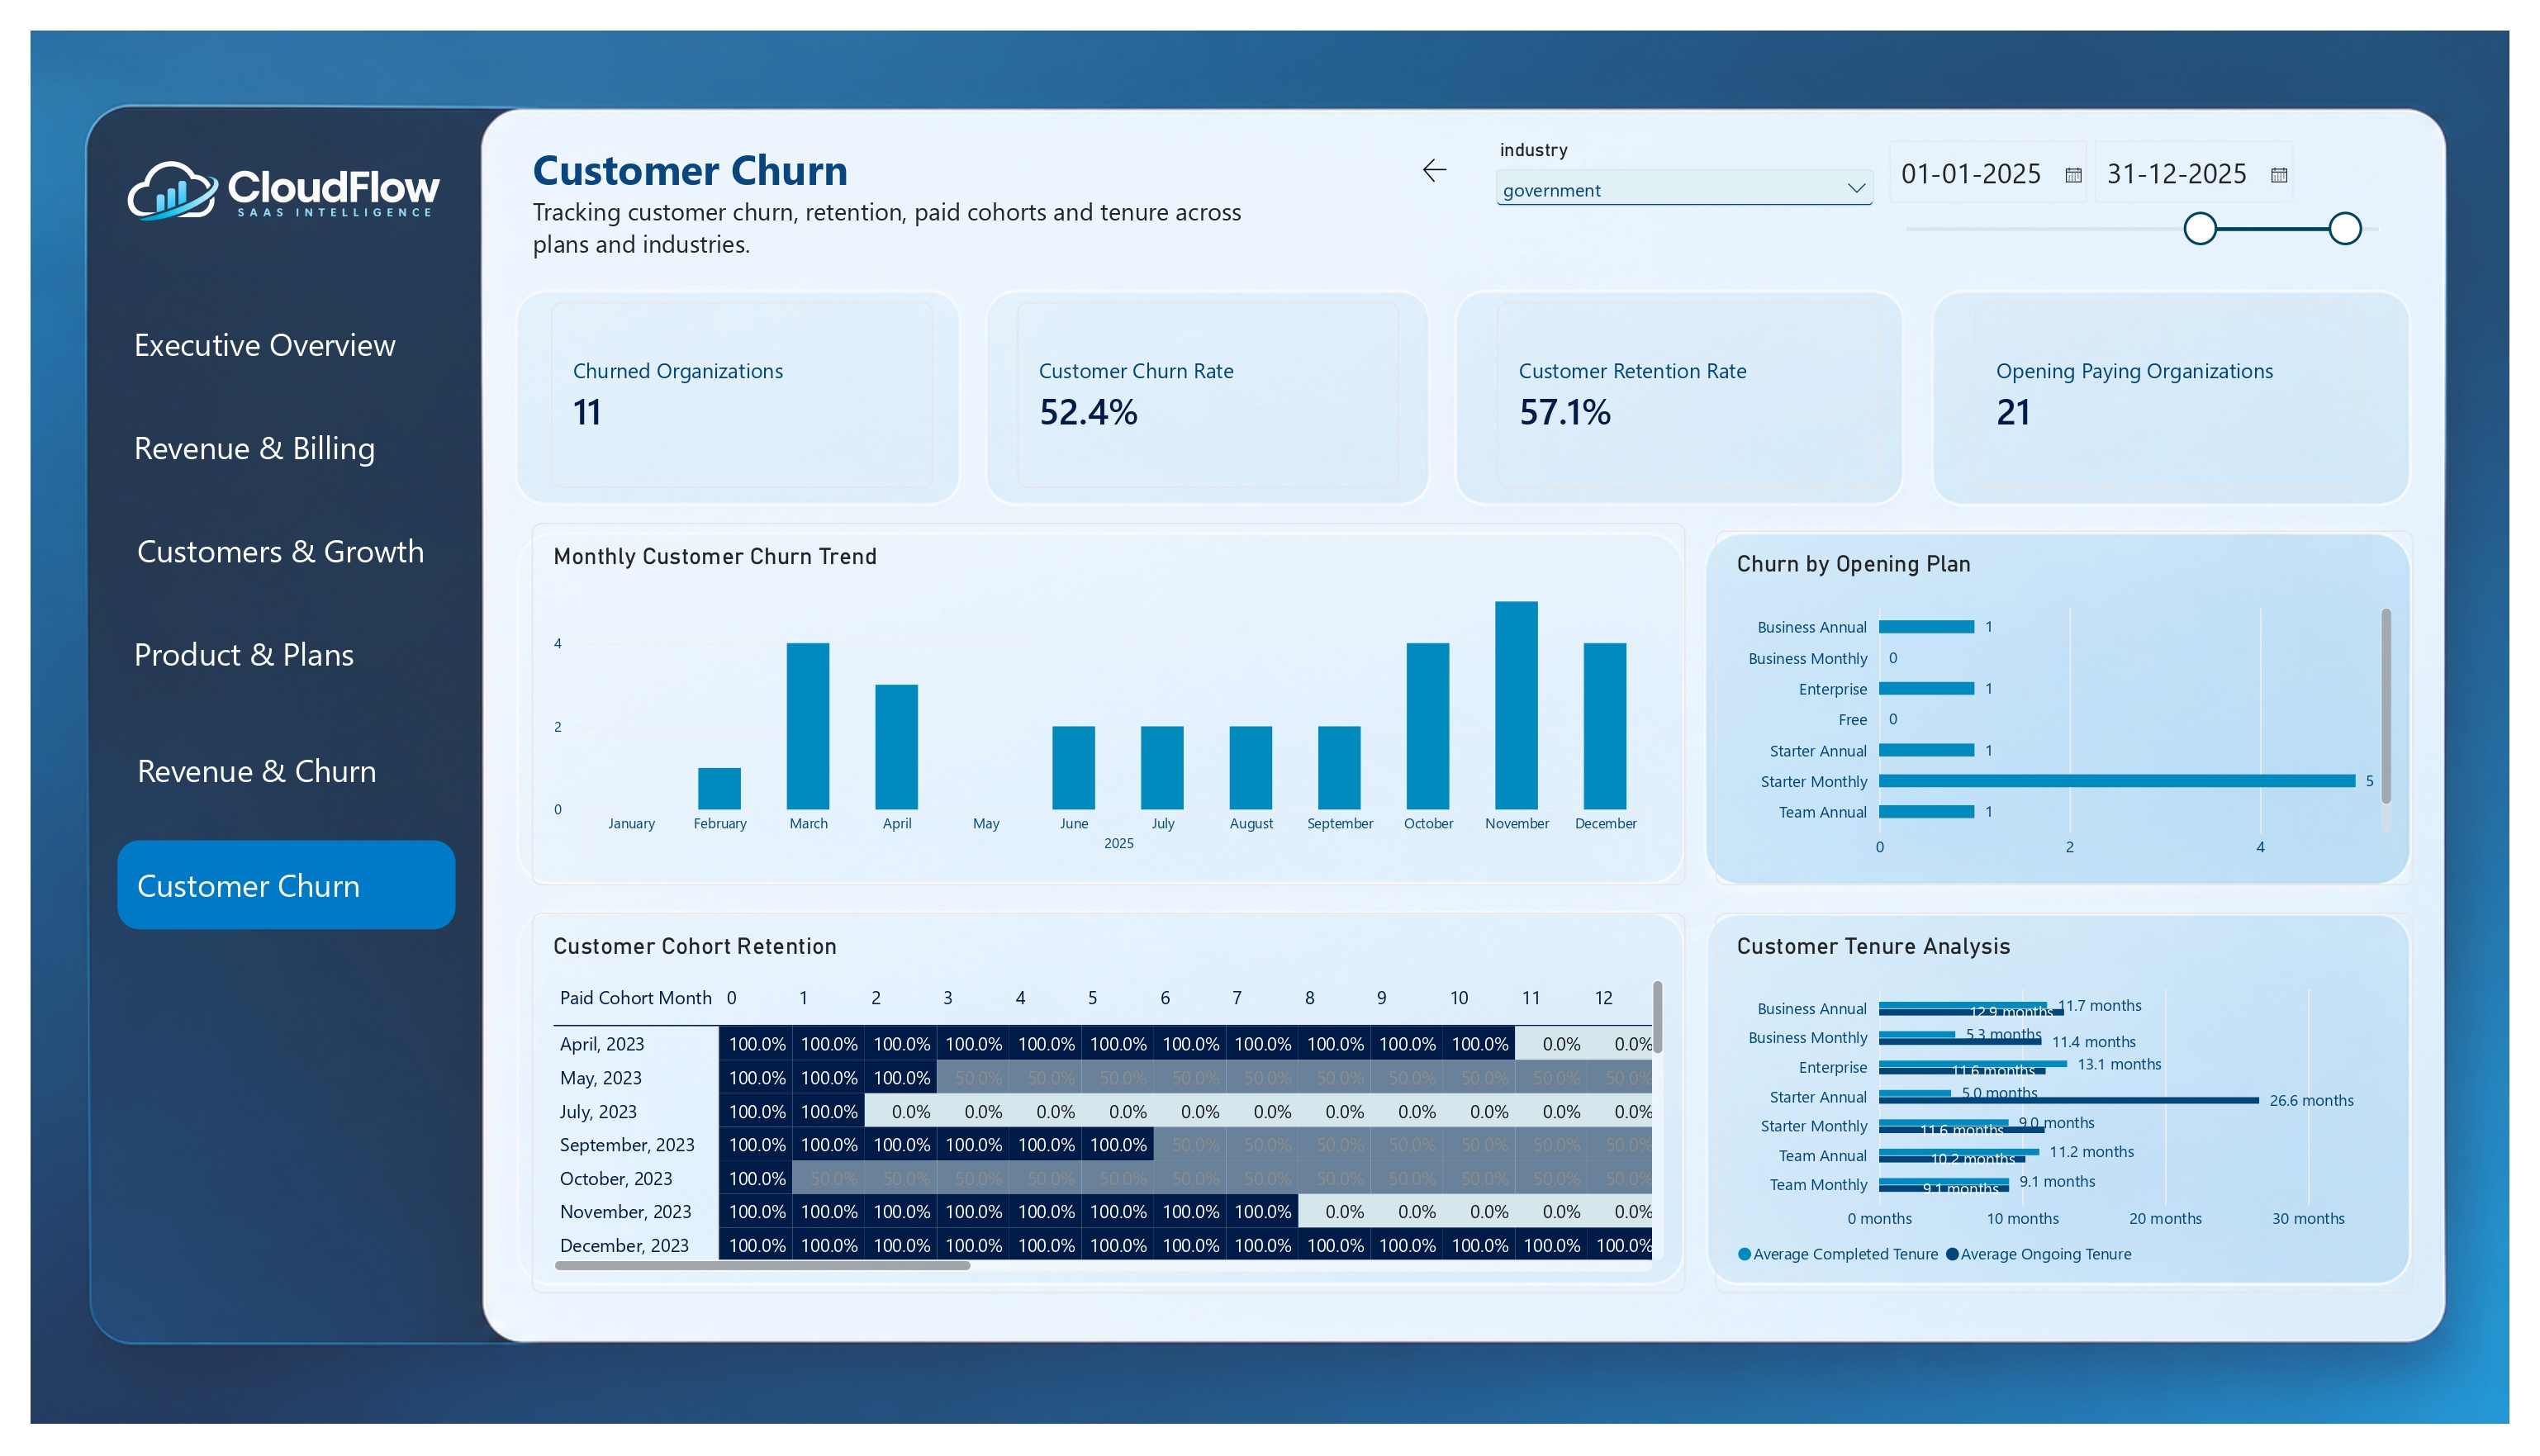

What the dashboard file says about the page in this screenshot:
{"tool":"powerbi","page":{"name":"Customer Churn","canvas":[1920,1080],"ordinal":5},"visuals":[{"type":"cardVisual","fields":{"Data":["_Measures (2).Churned Organizations"]},"box":[402.5,209.9,296.5,145],"z":0},{"type":"cardVisual","fields":{"Data":["_Measures (2).Customer Churn Rate"]},"box":[763.9,209.9,296.5,145],"z":1000},{"type":"cardVisual","fields":{"Data":["_Measures (2).Customer Retention Rate"]},"box":[1136.2,209.9,296.5,145],"z":2000},{"type":"cardVisual","fields":{"Data":["_Measures (2).Opening Paying Organizations"]},"box":[1506.2,209.9,296.5,145],"z":3000},{"type":"slicer","fields":{"Values":["Dim_Date_table.Date"]},"box":[1431.7,80,405,91.7],"z":4000},{"type":"clusteredColumnChart","title":"Monthly Customer Churn Trend","fields":{"Category":["Dim_Date_table.Date.Variation.Date Hierarchy.Year","Dim_Date_table.Date.Variation.Date Hierarchy.Month"],"Y":["_Measures (2).Churned Organizations"]},"box":[388.3,381.1,893.5,280.4],"z":5000},{"type":"actionButton","box":[1053.9,75.7,67.1,62.8],"z":7000},{"type":"clusteredBarChart","title":"Churn by Opening Plan","fields":{"Category":["Dim_plans.plan_name"],"Y":["_Measures (2).Churned Organizations"]},"box":[1305.2,386.5,541.1,275.1],"z":8000},{"type":"clusteredBarChart","title":"Customer Tenure Analysis","fields":{"Category":["Dim_plans.plan_name"],"Y":["_Measures (2).Average Completed Tenure","_Measures (2).Average Ongoing Tenure"]},"box":[1305.2,683.1,541.1,294.8],"z":9000},{"type":"shape","box":[64.9,208.7,262.7,67.3],"z":10000},{"type":"shape","box":[64.9,288,262,68],"z":11000},{"type":"shape","box":[66.9,368,262,68],"z":12000},{"type":"shape","box":[64.9,448,262,68],"z":13000},{"type":"textbox","box":[388.7,84.3,570.8,106],"z":14000},{"type":"pivotTable","title":"Customer Cohort Retention","fields":{"Columns":["Cohort Month Offset.Months Since Acquisition"],"Rows":["Dim_organizations.Paid Cohort Month"],"Values":["_Measures (2).Cohort Retention %"]},"box":[388.3,683.1,893.5,294.8],"z":15000},{"type":"shape","box":[66.5,537.5,262.5,68.3],"z":16000},{"type":"shape","box":[66.5,627.4,262.5,68.3],"z":17000},{"type":"slicer","fields":{"Values":["Dim_organizations.industry"]},"box":[1129.7,84.4,303,86.6],"z":18000},{"type":"image","box":[64.7,50.3,262.5,149.2],"z":18001}]}

Visuals, with their boxes on the page's 1920x1080 design canvas (x1, y1, x2, y2). These are canvas units, not pixel positions in the 2540x1456 screenshot, which may show the page scaled, cropped or inside an application window:
cardVisual - _Measures (2).Churned Organizations: l=402, t=210, r=699, b=355
cardVisual - _Measures (2).Customer Churn Rate: l=764, t=210, r=1060, b=355
cardVisual - _Measures (2).Customer Retention Rate: l=1136, t=210, r=1433, b=355
cardVisual - _Measures (2).Opening Paying Organizations: l=1506, t=210, r=1803, b=355
slicer - Dim_Date_table.Date: l=1432, t=80, r=1837, b=172
"Monthly Customer Churn Trend" clusteredColumnChart: l=388, t=381, r=1282, b=662
actionButton: l=1054, t=76, r=1121, b=138
"Churn by Opening Plan" clusteredBarChart: l=1305, t=386, r=1846, b=662
"Customer Tenure Analysis" clusteredBarChart: l=1305, t=683, r=1846, b=978
shape: l=65, t=209, r=328, b=276
shape: l=65, t=288, r=327, b=356
shape: l=67, t=368, r=329, b=436
shape: l=65, t=448, r=327, b=516
textbox: l=389, t=84, r=960, b=190
"Customer Cohort Retention" pivotTable: l=388, t=683, r=1282, b=978
shape: l=66, t=538, r=329, b=606
shape: l=66, t=627, r=329, b=696
slicer - Dim_organizations.industry: l=1130, t=84, r=1433, b=171
image: l=65, t=50, r=327, b=200
